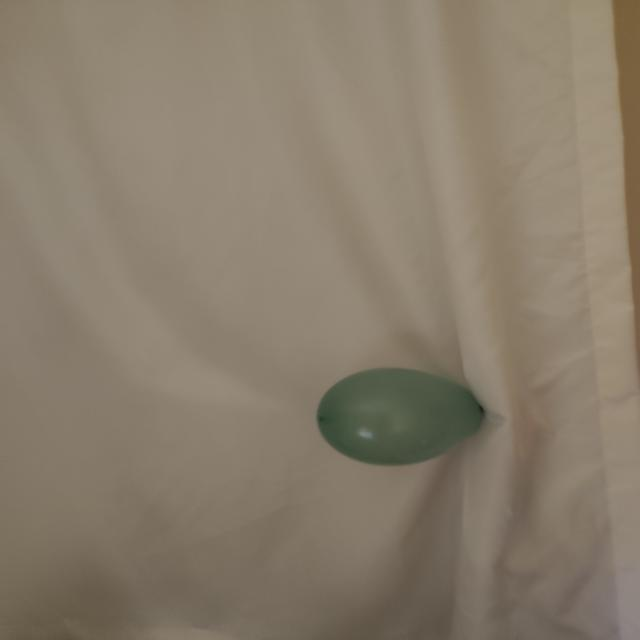balloon: (317, 368, 484, 466)
